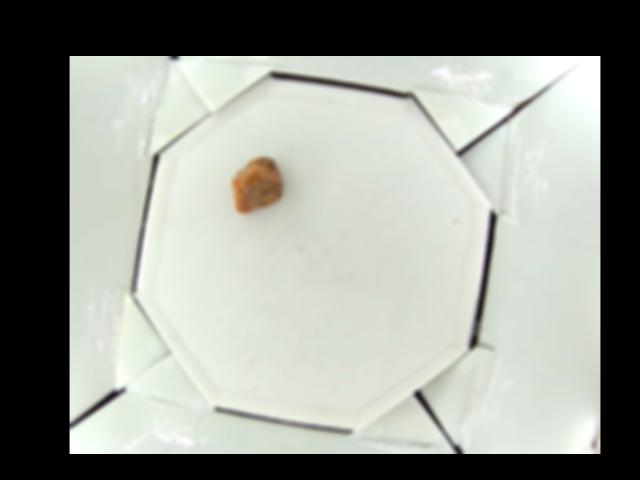Brisk: (232, 153, 283, 216)
